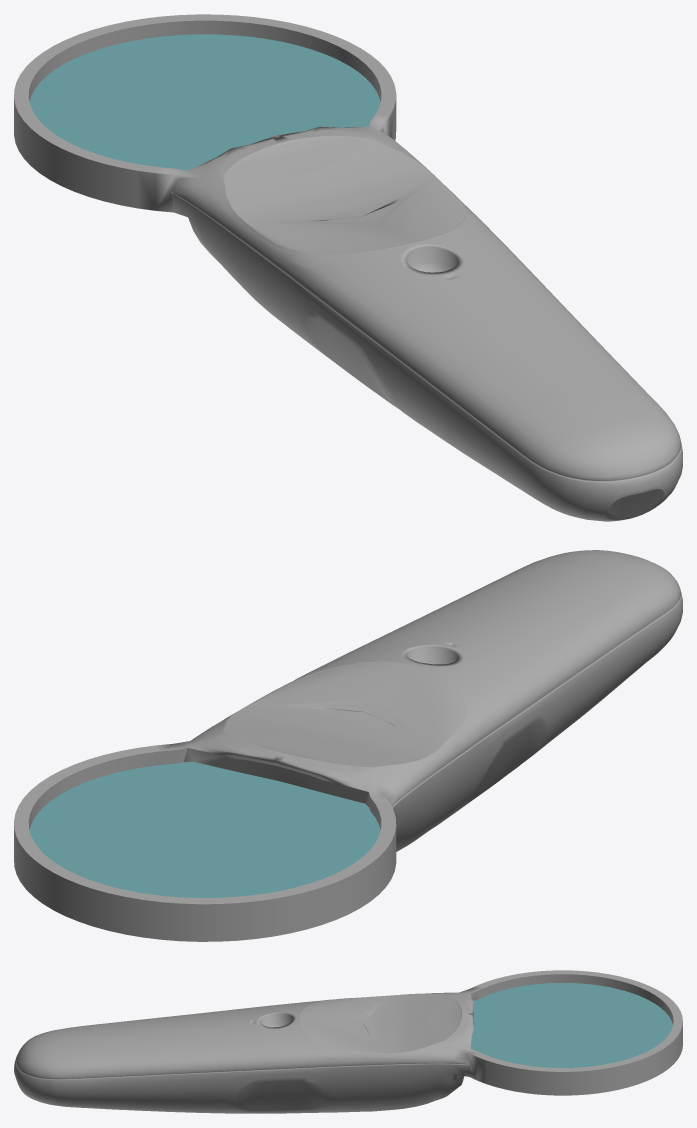
Rendered from controller_grip.fbx.
3 views of the same model, one above another, from view 1: azimuth 30°, elevation 25°; view 2: azimuth 150°, elevation 25°; view 3: azimuth 270°, elevation 25° (orthographic). The views are drawn at different scales.
Parts seen in each view (by area): view 1: controllergrip, glass; view 2: controllergrip, glass; view 3: controllergrip, glass.
Boxes of the visible parts, x1=… form: controllergrip: x1=14, y1=14, x2=682, y2=521; glass: x1=29, y1=34, x2=380, y2=170; controllergrip: x1=14, y1=550, x2=682, y2=941; glass: x1=29, y1=762, x2=380, y2=897; controllergrip: x1=14, y1=970, x2=682, y2=1113; glass: x1=470, y1=983, x2=673, y2=1067.
Bounding box in the file's own units: 2.87 × 1.23 × 7.99.
